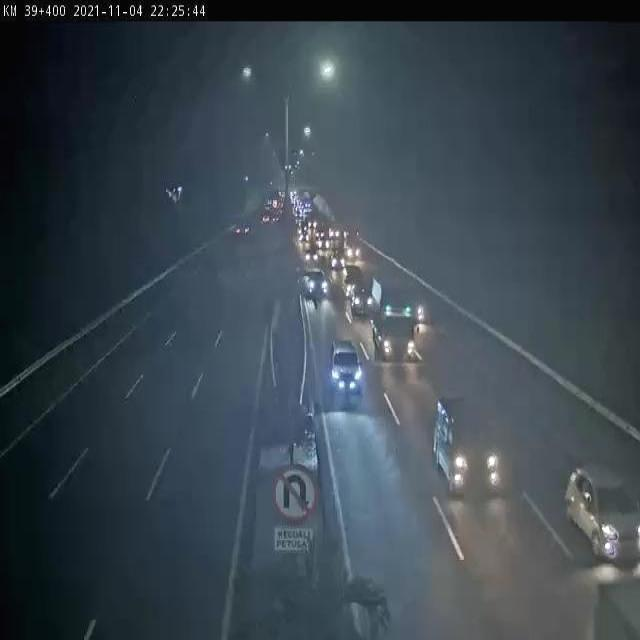Car: (570, 462, 640, 565), (322, 338, 366, 412), (342, 262, 366, 302), (348, 285, 372, 320), (308, 267, 332, 300), (303, 246, 321, 266)
Truck: (368, 273, 423, 369), (340, 230, 364, 262)
Van: (425, 401, 513, 520)
